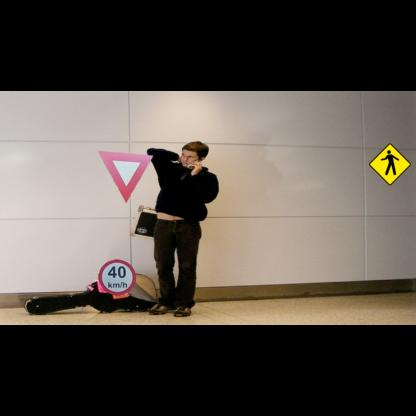A-32a: (368, 143, 411, 186)
R-19: (98, 259, 136, 296)
R-2: (98, 151, 153, 203)
